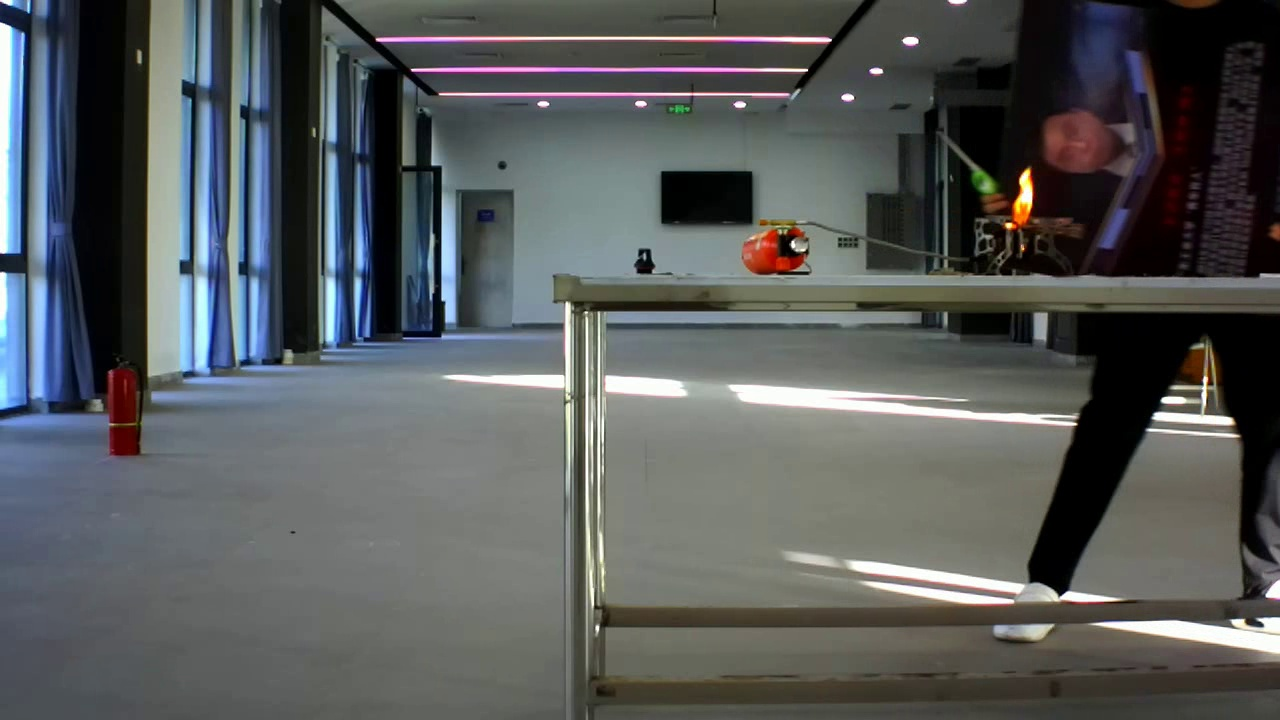Fire: (1003, 165, 1039, 232)
